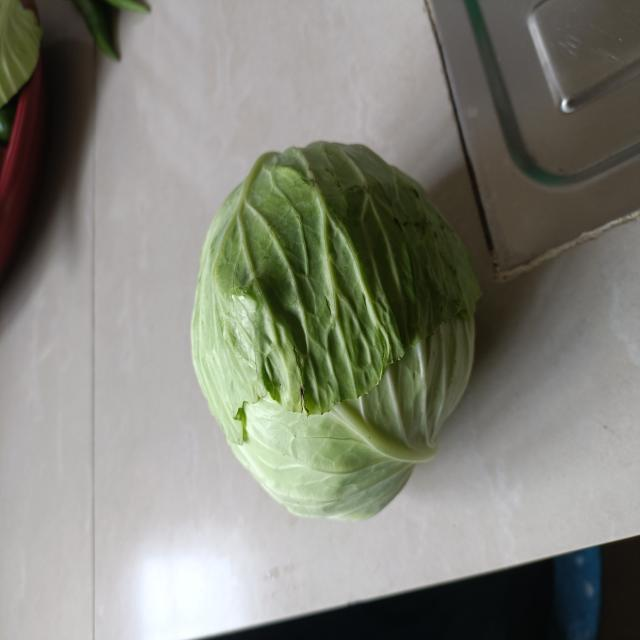cabbage: (185, 133, 482, 524)
